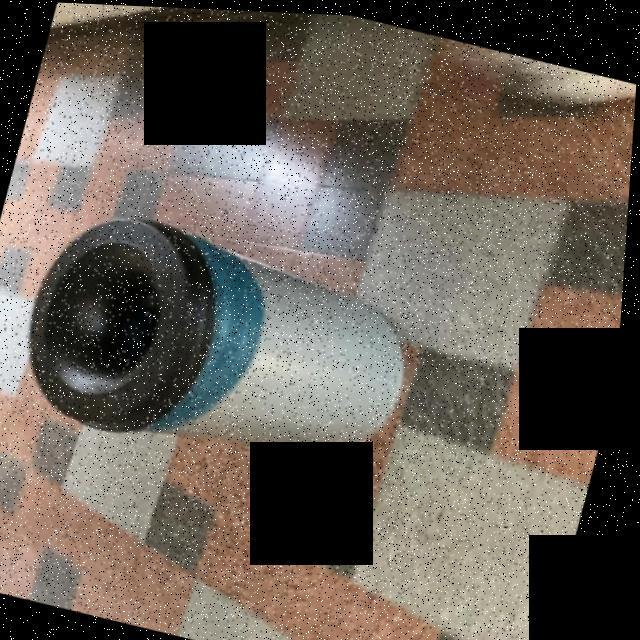bin: (0, 184, 466, 509)
